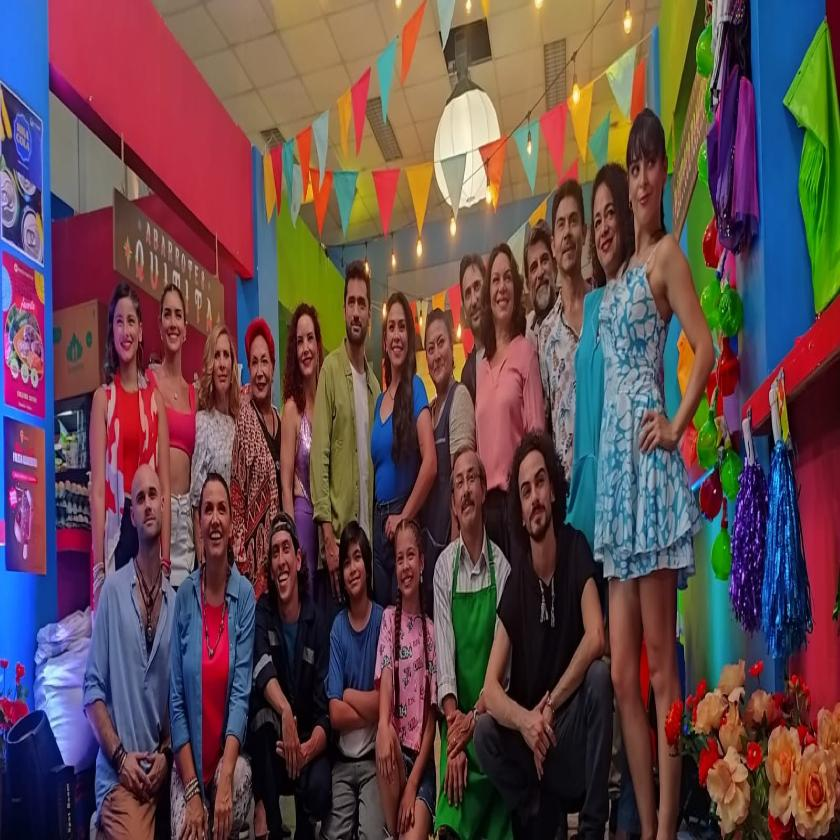Sin_casco: (514, 423, 558, 569), (628, 102, 670, 231), (445, 442, 488, 565), (104, 274, 146, 385), (126, 463, 169, 568), (592, 157, 627, 285), (267, 508, 305, 620), (552, 170, 585, 298), (338, 508, 374, 617), (196, 471, 234, 573), (485, 241, 520, 350), (287, 303, 327, 394), (419, 305, 455, 403), (244, 311, 279, 408), (393, 508, 425, 614), (523, 213, 553, 326), (457, 246, 486, 358), (336, 265, 370, 356), (205, 322, 235, 413), (158, 280, 189, 367), (384, 286, 414, 371)
